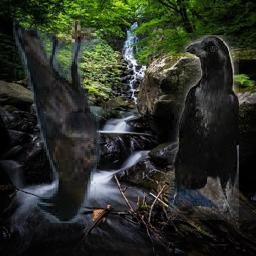Crow: (13, 19, 101, 223), (169, 36, 240, 221)
